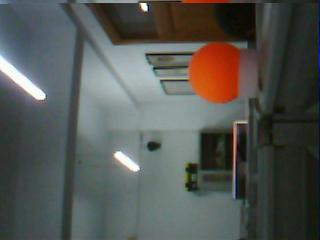oball: (189, 41, 239, 105)
